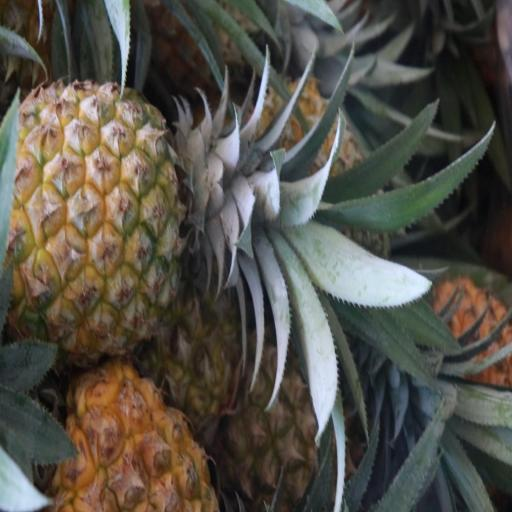Pineapple - v8 v1: (4, 84, 185, 345), (34, 339, 210, 512), (216, 319, 342, 512)
